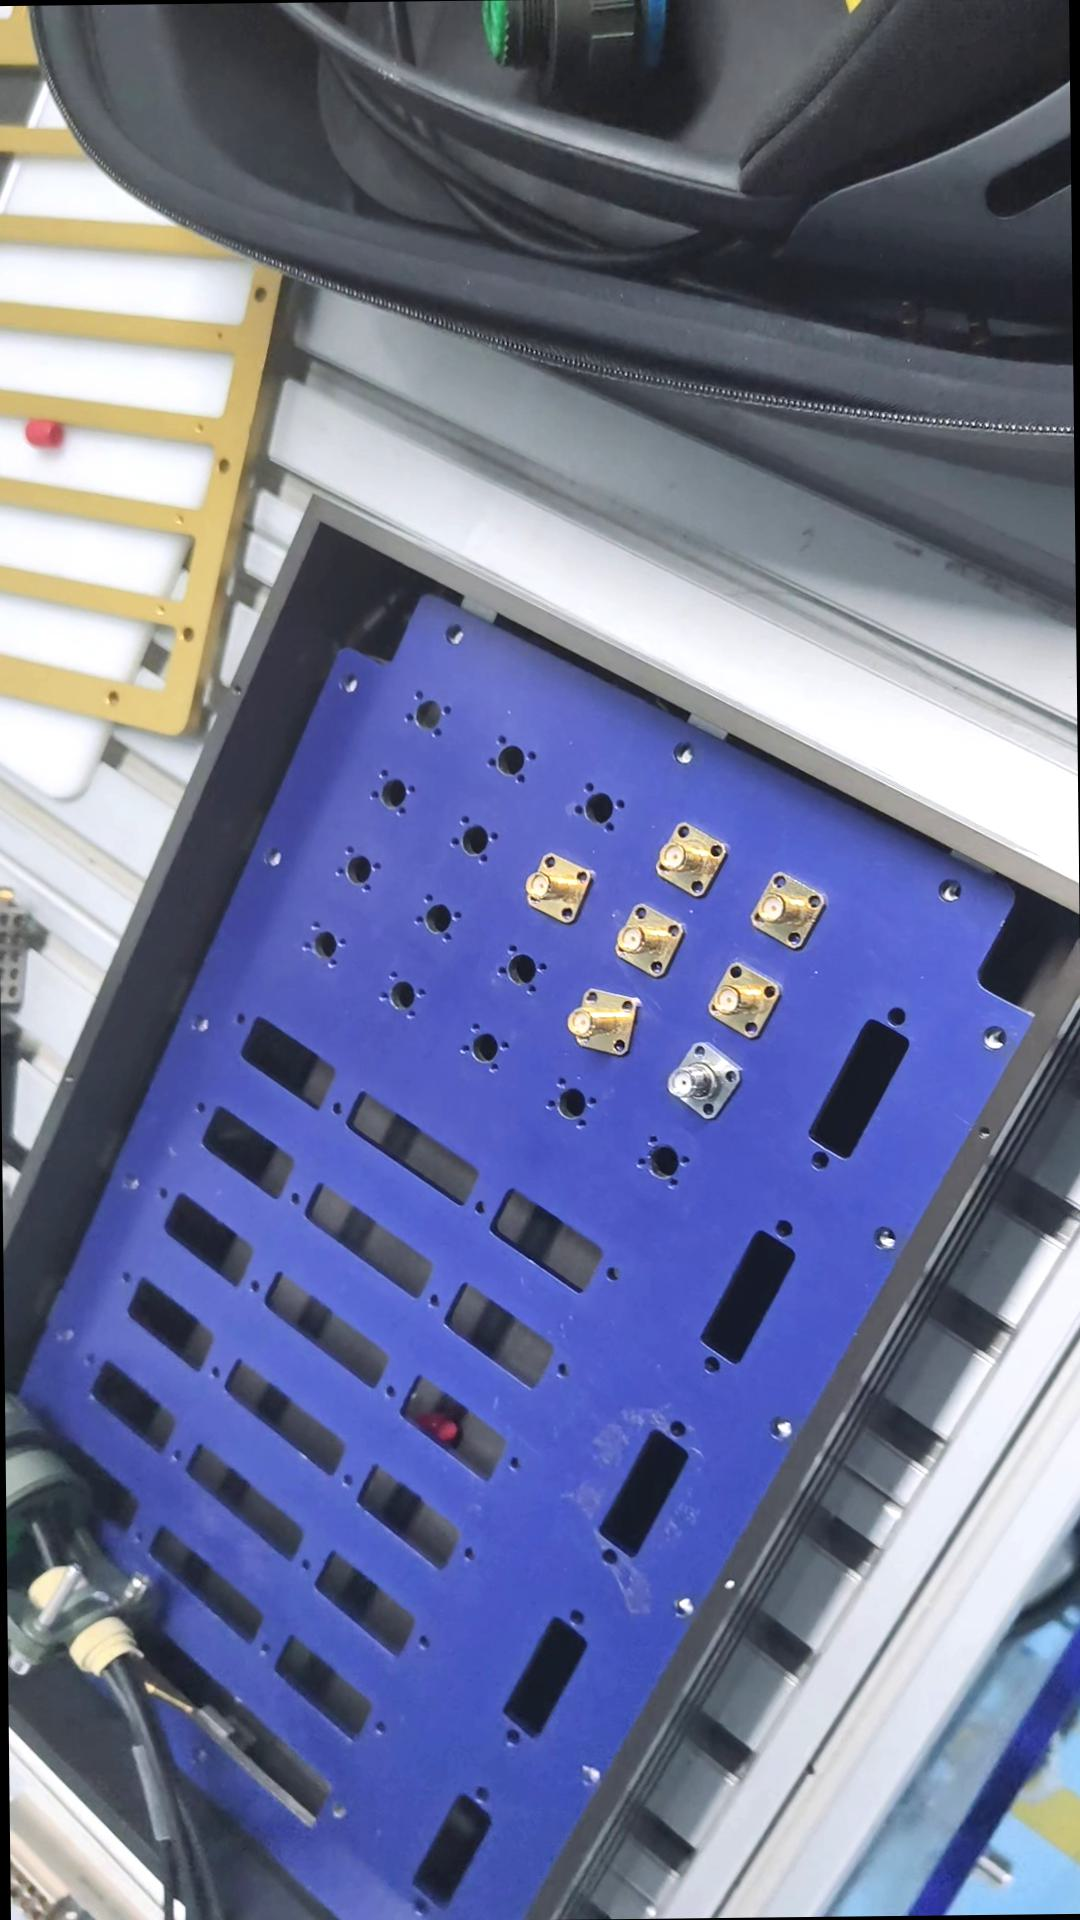SMA: (659, 1036, 742, 1118), (608, 899, 691, 978), (517, 849, 597, 928), (703, 961, 783, 1036), (744, 874, 825, 947), (559, 982, 636, 1059), (649, 818, 724, 895)
